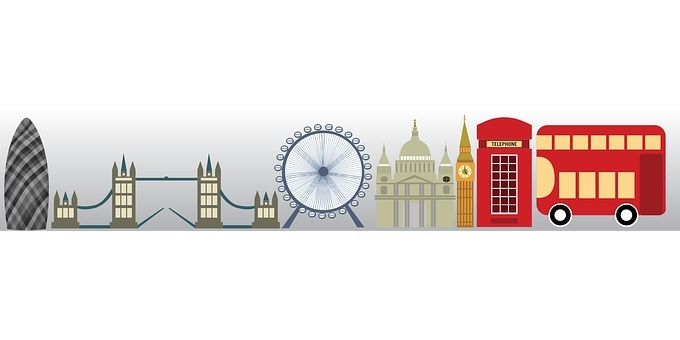bus: (532, 117, 668, 227)
